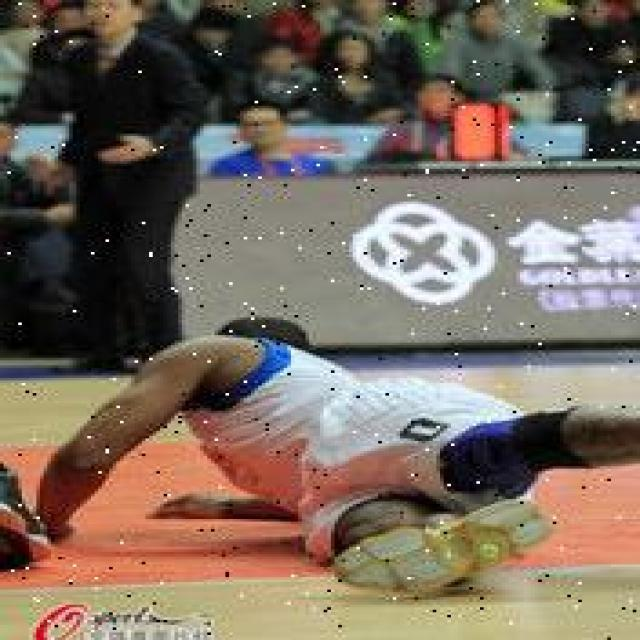fall: (69, 314, 611, 574)
